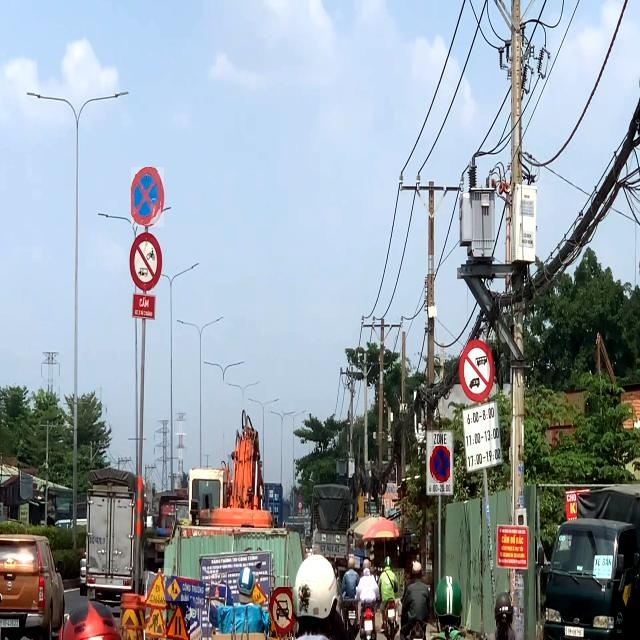bien_cam: (131, 167, 164, 227), (270, 587, 298, 637), (145, 568, 171, 610), (166, 601, 190, 640), (146, 600, 170, 638), (430, 446, 450, 483)
